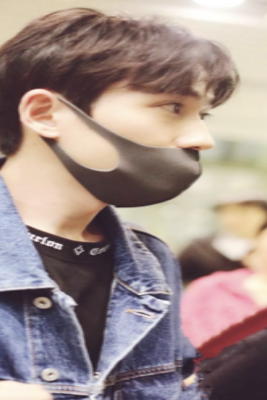mask_weared_incorrect: (55, 97, 214, 207)
